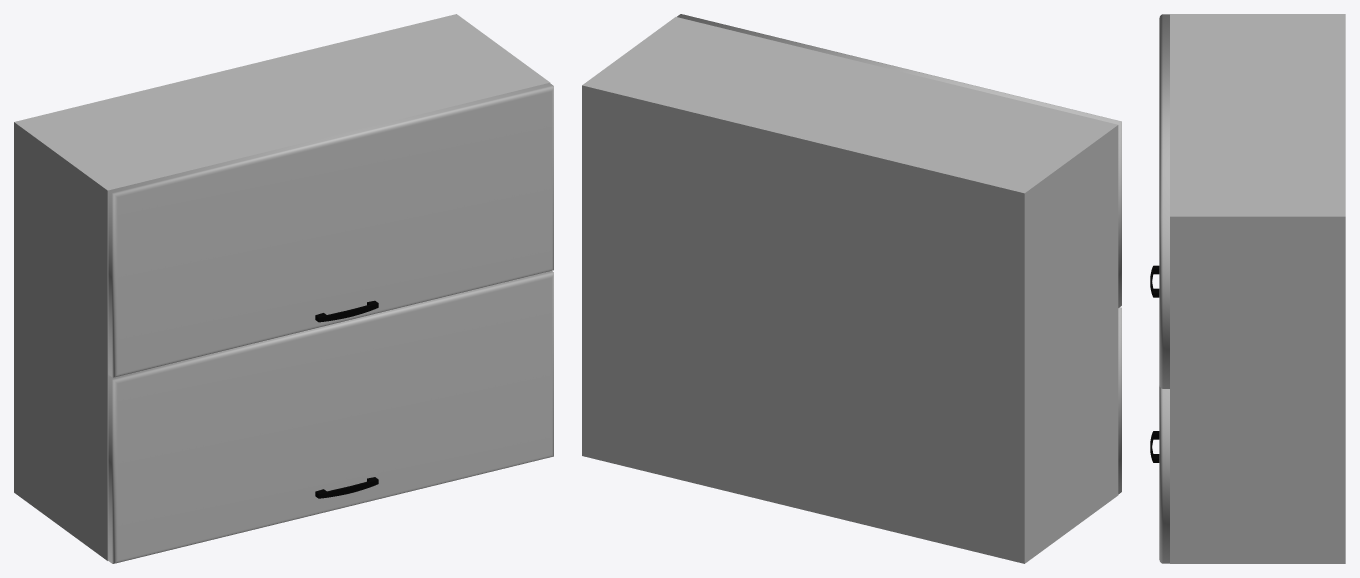
3 views of the same model, side by side, from view 1: azimuth 30°, elevation 25°; view 2: azimuth 150°, elevation 25°; view 3: azimuth 270°, elevation 25° (orthographic). The views are drawn at different scales.
Visible parts, largest first — view 1: Box011, Box029, Box001; view 2: Box001, Box011, Box029; view 3: Box001, Box011, Box029.
Part boxes in pixels (left/top/right/bottom): Box011: left=108, top=83, right=553, bottom=377; Box029: left=108, top=270, right=553, bottom=563; Box001: left=14, top=14, right=550, bottom=560; Box001: left=582, top=17, right=1118, bottom=563; Box011: left=677, top=14, right=1121, bottom=307; Box029: left=1118, top=307, right=1121, bottom=494; Box001: left=1170, top=14, right=1345, bottom=563; Box011: left=1159, top=14, right=1169, bottom=388; Box029: left=1159, top=385, right=1169, bottom=563.
Size of the model in its own units: 0.9 by 0.72 by 0.3671.
2 materials, 1 textured.
